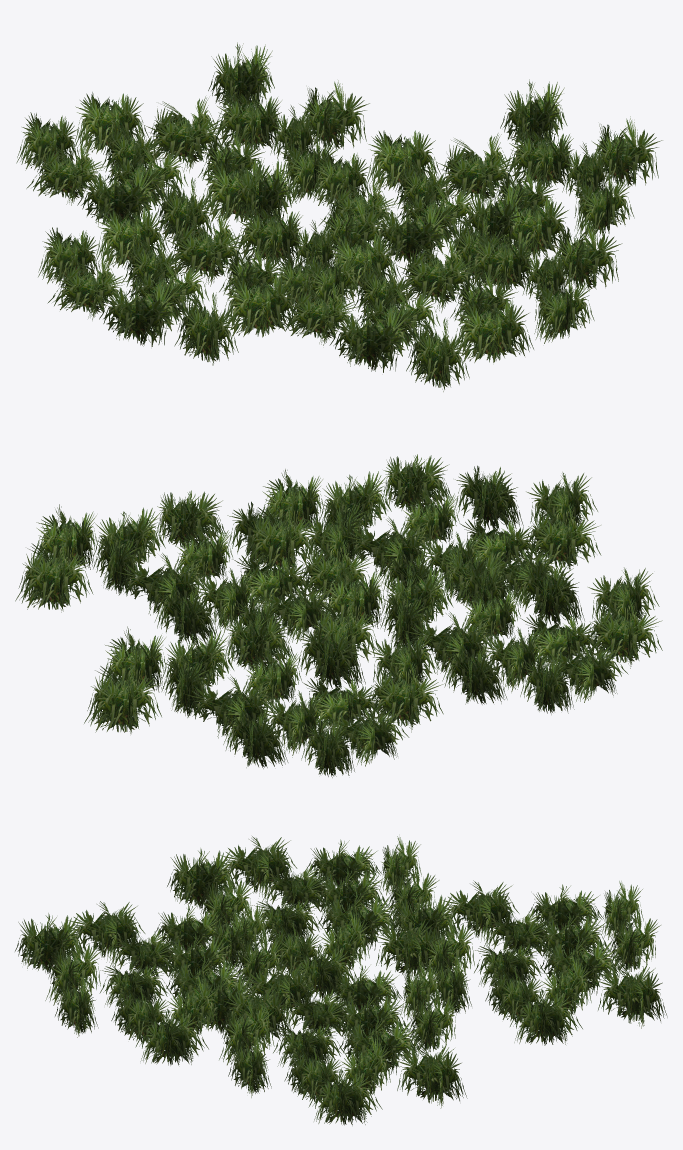
The model's file is trop_grass(region).dae.
The picture shows the model from 3 angles, top to bottom: view 1: azimuth 30°, elevation 25°; view 2: azimuth 150°, elevation 25°; view 3: azimuth 270°, elevation 25°; orthographic projection. The views are drawn at different scales.
Visible parts, largest first — view 1: trop_grass_region; view 2: trop_grass_region; view 3: trop_grass_region.
Part boxes in pixels (bbox=[...]): trop_grass_region: bbox=[16, 42, 662, 391]; trop_grass_region: bbox=[15, 454, 662, 777]; trop_grass_region: bbox=[15, 836, 667, 1125].
Size of the model in its own units: 241 by 36.11 by 252.
1 material, 1 textured.
